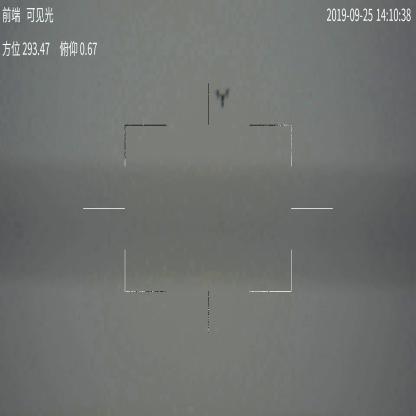uav: (214, 87, 230, 109)
